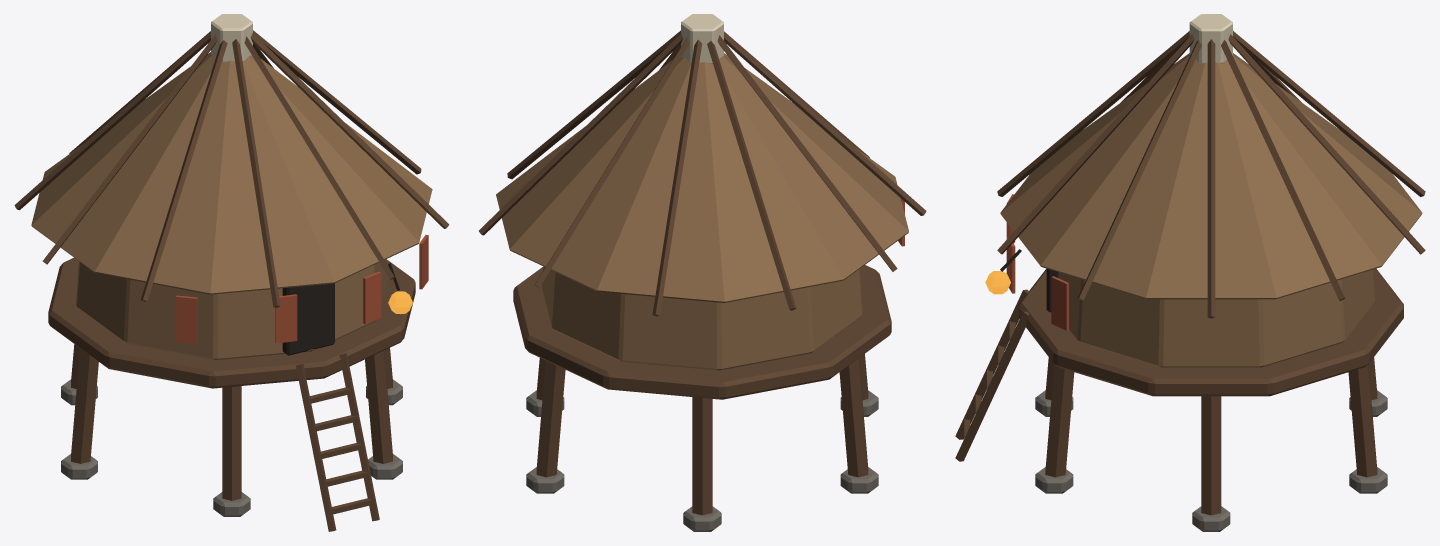
The model's file is exo-vellhut.glb.
3 views of the same model, side by side, from view 1: azimuth 30°, elevation 25°; view 2: azimuth 150°, elevation 25°; view 3: azimuth 270°, elevation 25° (orthographic). The views are drawn at different scales.
Parts seen in each view (by area): view 1: body; view 2: body; view 3: body.
Boxes of the visible parts, x1,y1,x2,y2 form: body: (14, 14, 449, 531); body: (479, 14, 926, 531); body: (955, 14, 1425, 531).
Bounding box in the file's own units: 6.98 × 7.33 × 7.28.
